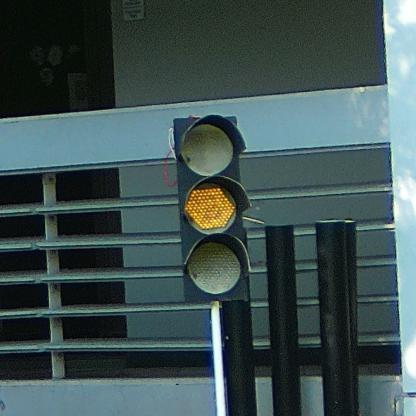yellow: (174, 115, 252, 302)
